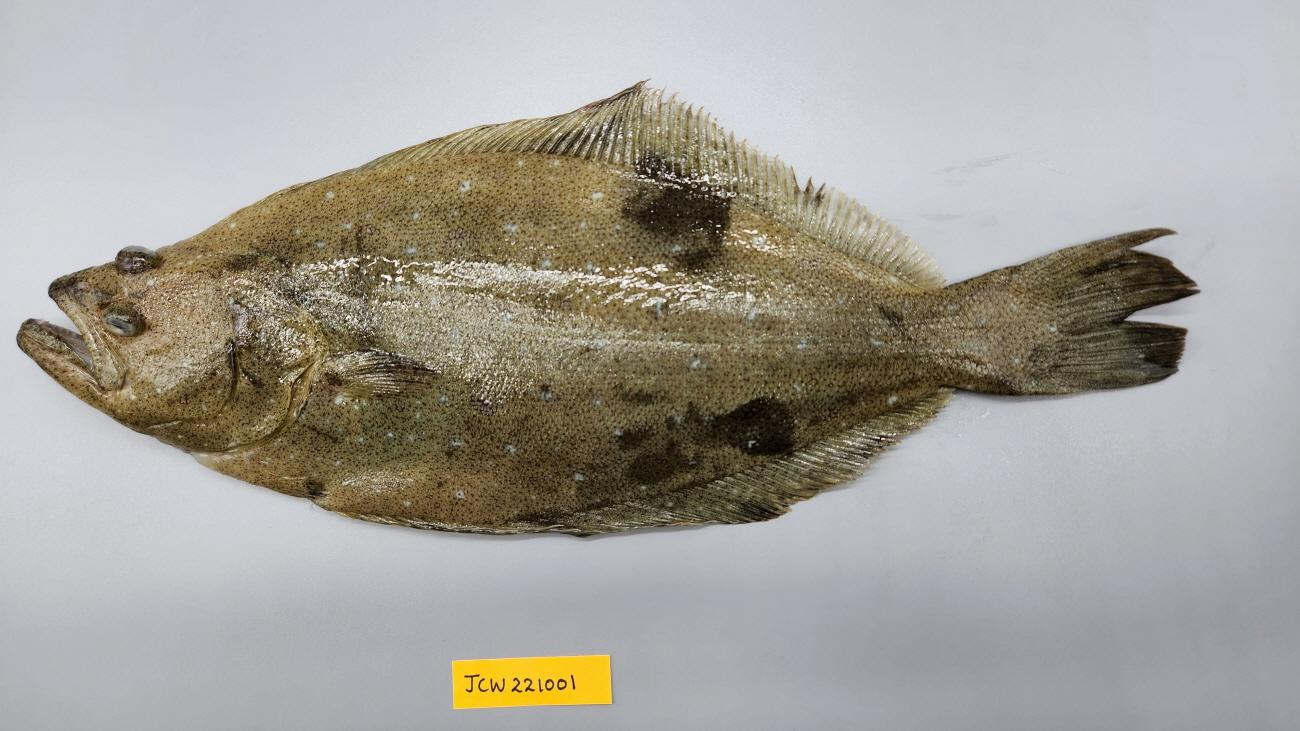POOUN: (18, 77, 1202, 540)
